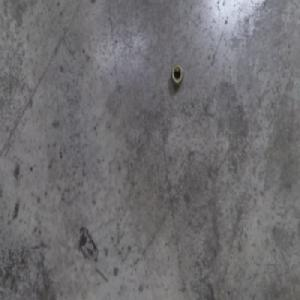Nut: (170, 63, 184, 87)
